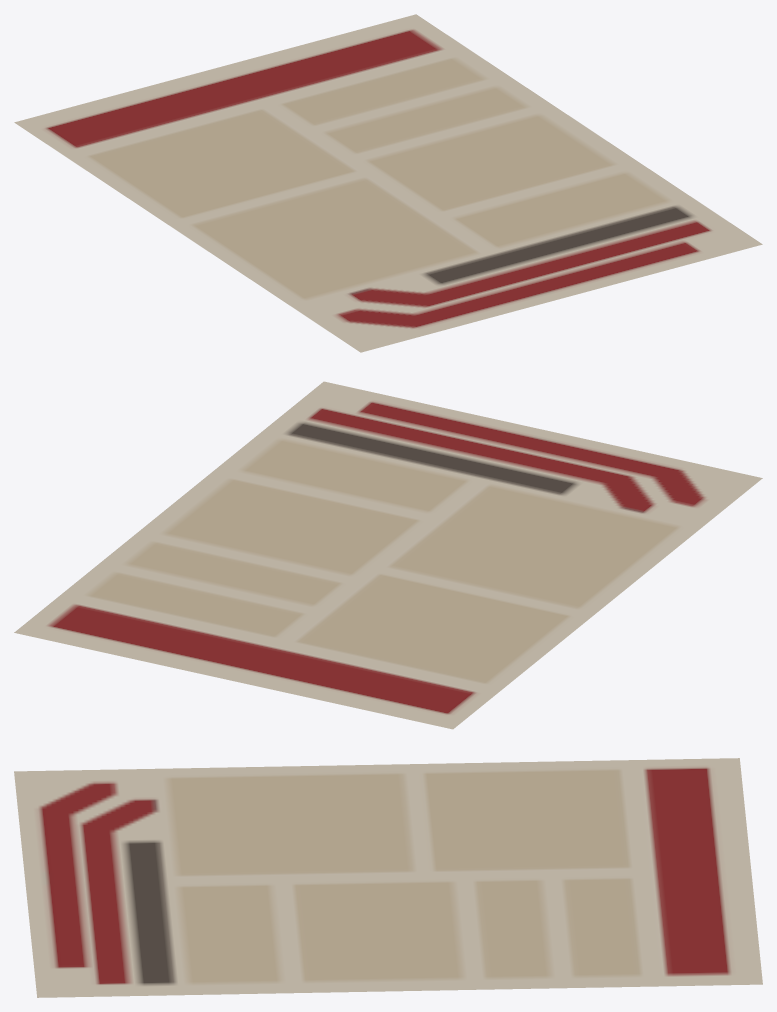
File: SM_Prop_Junk_Paper_03.fbx
The picture shows the model from 3 angles, top to bottom: view 1: azimuth 30°, elevation 25°; view 2: azimuth 150°, elevation 25°; view 3: azimuth 270°, elevation 25°; orthographic projection. The views are drawn at different scales.
Parts seen in each view (by area): view 1: SM_Prop_Junk_Paper_03; view 2: SM_Prop_Junk_Paper_03; view 3: SM_Prop_Junk_Paper_03.
Boxes of the visible parts, x1=… form: SM_Prop_Junk_Paper_03: x1=14, y1=14, x2=762, y2=352; SM_Prop_Junk_Paper_03: x1=14, y1=381, x2=762, y2=729; SM_Prop_Junk_Paper_03: x1=14, y1=758, x2=762, y2=997.
Bounding box in the file's own units: 25.24 × 0 × 33.32.
